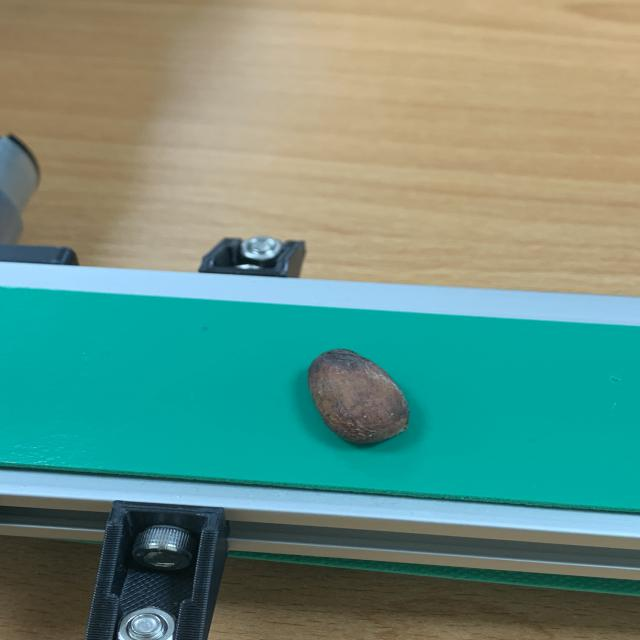Fine_cocoabeans: (126, 312, 488, 492)
